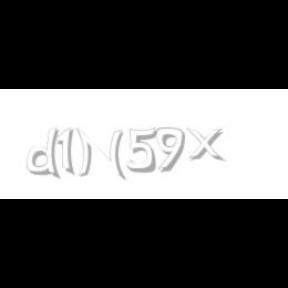1: (53, 128, 75, 176)
5: (127, 128, 158, 174)
9: (156, 128, 186, 172)
N: (76, 128, 124, 180)
d: (26, 128, 64, 180)
x: (186, 128, 228, 162)
